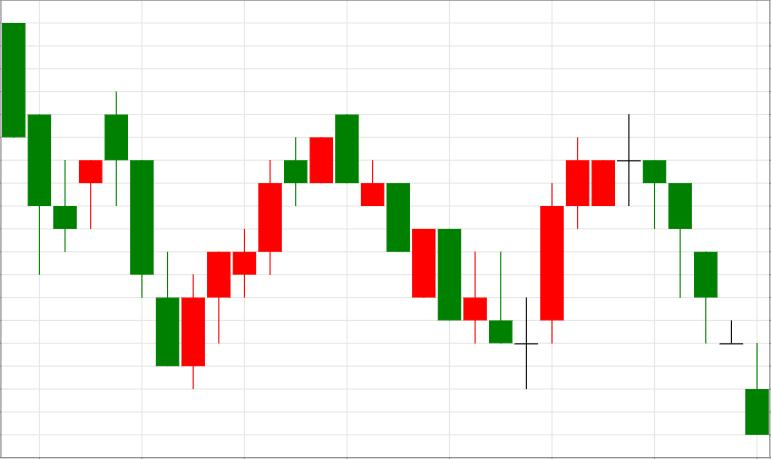morning_star_rise: (335, 114, 564, 390)
